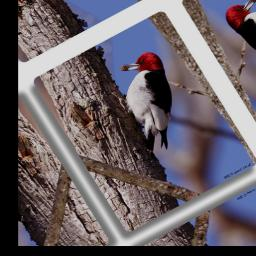Woodpecker: (100, 47, 205, 157)
